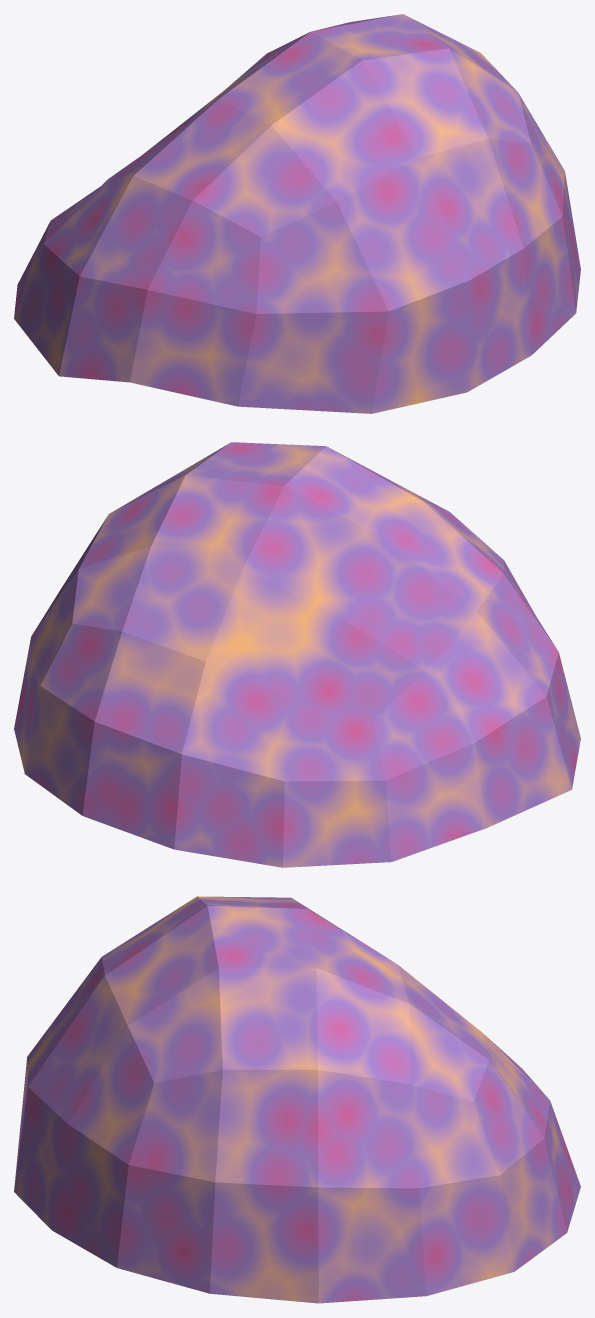
The model's file is 立方体.107.fbx.
3 renders of one model, top to bottom at view 1: azimuth 30°, elevation 25°; view 2: azimuth 150°, elevation 25°; view 3: azimuth 270°, elevation 25°, orthographic. The views are drawn at different scales.
Parts seen in each view (by area): view 1: 立方体.107; view 2: 立方体.107; view 3: 立方体.107.
Part boxes in pixels (x1,y1,x2,y2): 立方体.107: (14, 14, 580, 413); 立方体.107: (14, 442, 580, 867); 立方体.107: (14, 896, 580, 1303).
Bounding box in the file's own units: 29.61 × 15.5 × 27.04.
